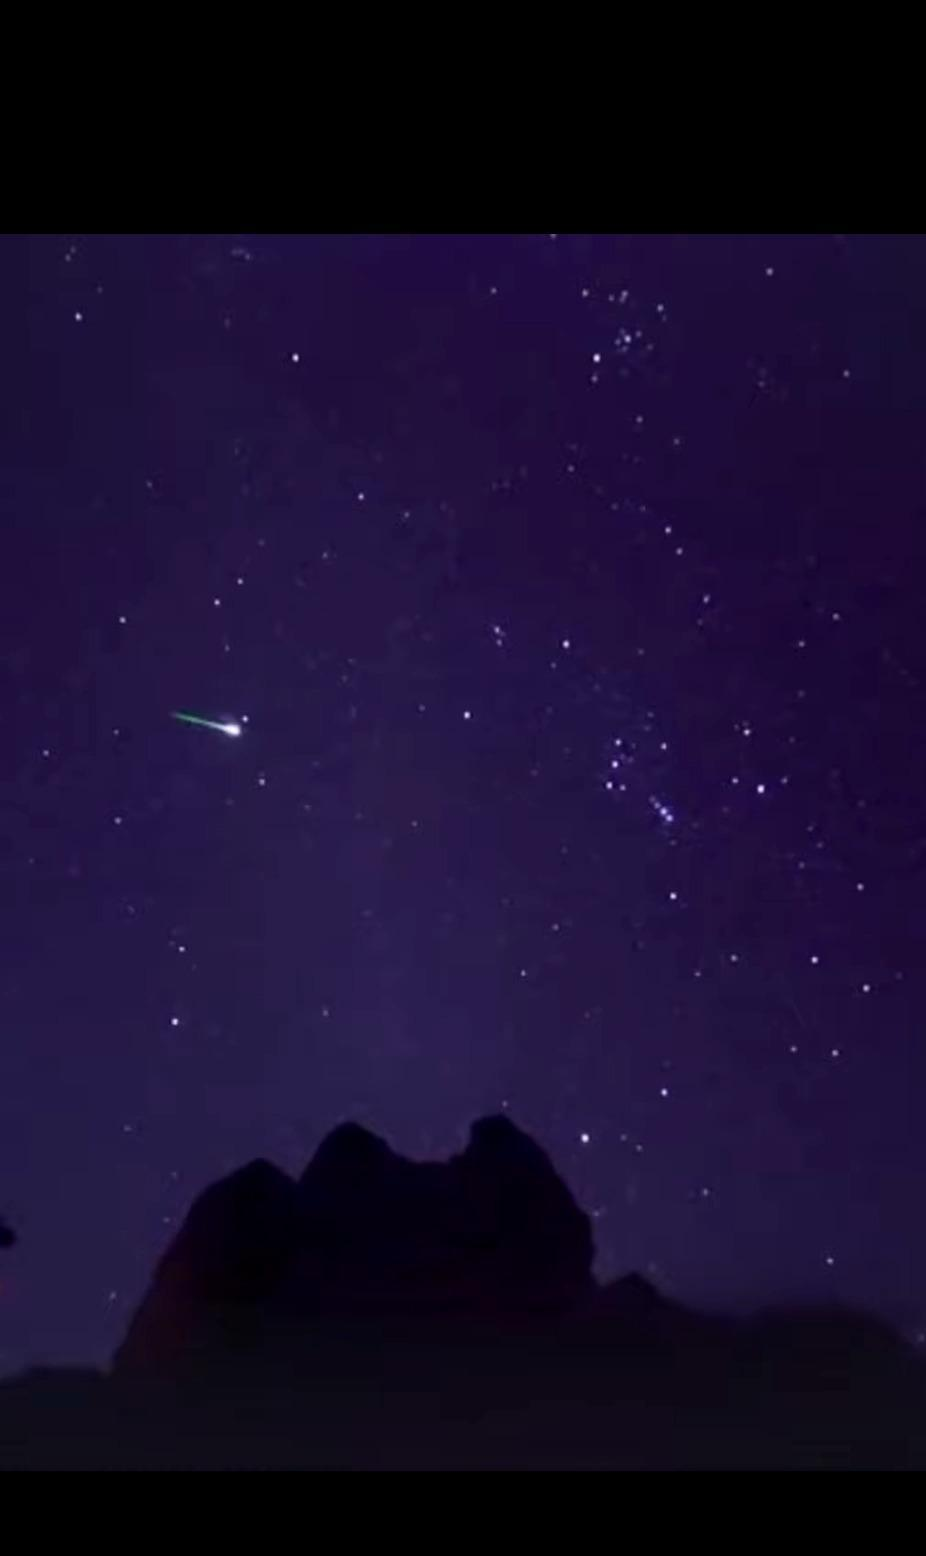meteorite: (143, 696, 272, 753)
